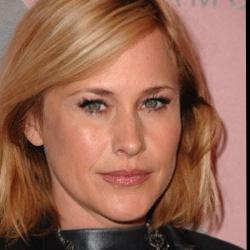face: (3, 3, 230, 237)
